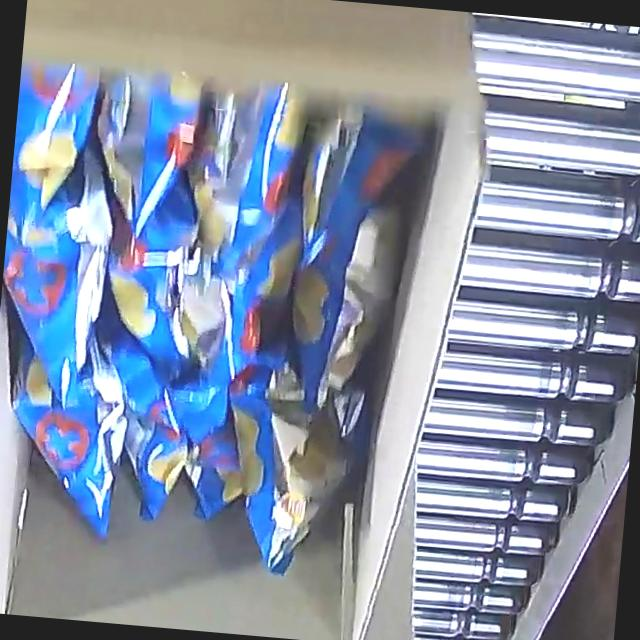paprika: (0, 57, 432, 589)
